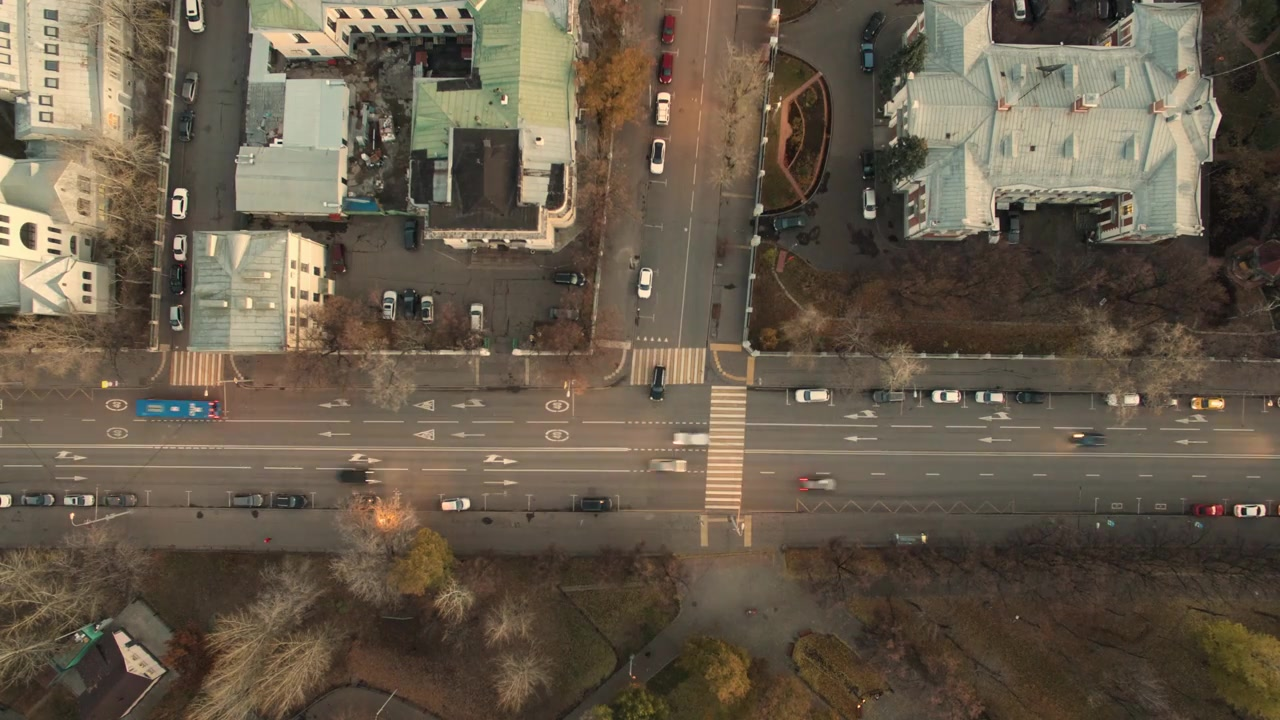car: (133, 396, 226, 424), (792, 385, 833, 408), (648, 455, 691, 476), (649, 361, 669, 405), (183, 1, 208, 36), (671, 429, 713, 449), (1069, 431, 1111, 451), (796, 474, 838, 494), (649, 136, 669, 177), (270, 491, 311, 511), (861, 9, 888, 39), (101, 490, 141, 510), (169, 185, 191, 221), (579, 495, 616, 516), (334, 466, 374, 485), (1105, 389, 1141, 410), (654, 89, 673, 128), (771, 212, 808, 232), (178, 107, 198, 144), (379, 288, 399, 324), (872, 386, 908, 406), (328, 241, 349, 275), (181, 71, 202, 105), (441, 493, 472, 516), (467, 301, 486, 338), (656, 51, 676, 86), (635, 265, 654, 301), (552, 269, 588, 288), (860, 185, 879, 221), (659, 12, 679, 46), (858, 40, 878, 74), (1015, 388, 1049, 408), (1191, 501, 1226, 520), (166, 263, 186, 296), (19, 491, 55, 509), (1234, 502, 1268, 521), (1188, 395, 1226, 412), (231, 491, 266, 509), (402, 287, 419, 324), (171, 232, 191, 263), (929, 388, 965, 405), (973, 389, 1007, 407), (168, 302, 187, 334), (401, 222, 421, 252), (1006, 212, 1022, 248), (62, 492, 96, 508), (419, 294, 436, 325), (1011, 1, 1031, 24)
